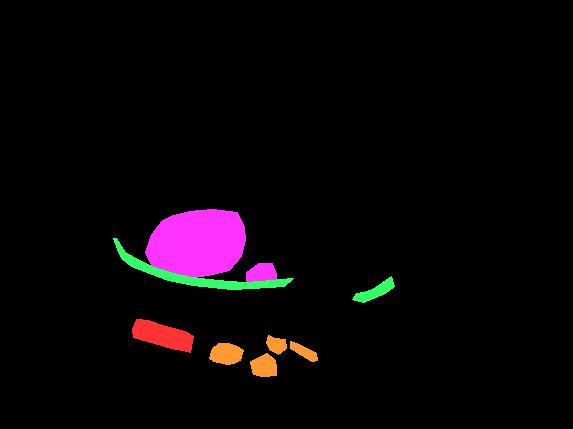Broken part: (113, 238, 293, 289), (352, 276, 394, 302)
Dent: (145, 209, 245, 278), (246, 263, 276, 287)
Missing part: (132, 319, 193, 352)
Paint chip: (209, 343, 243, 364), (250, 353, 276, 376), (290, 341, 317, 361), (266, 335, 286, 354)
